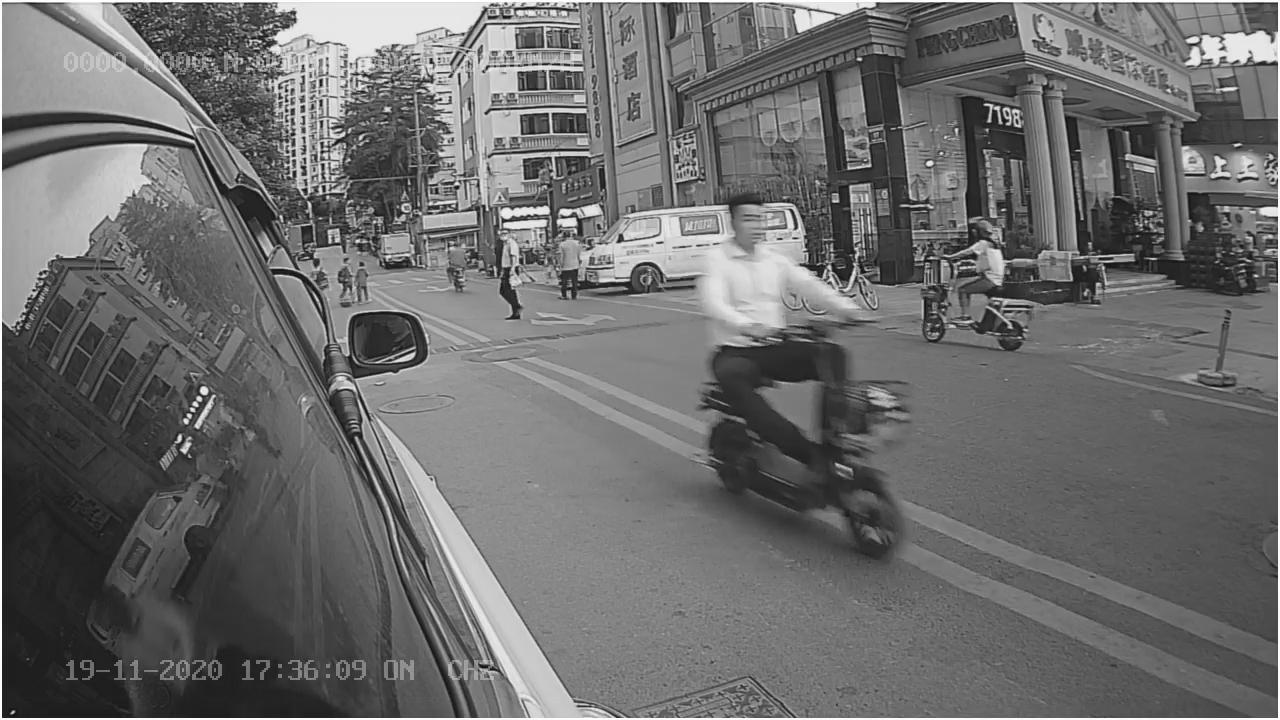person: (688, 197, 827, 326)
